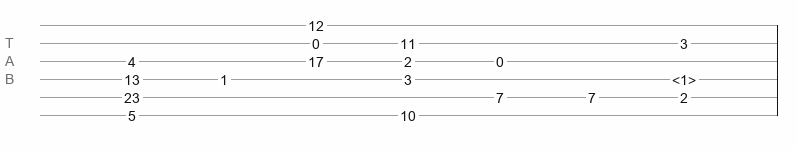0: (312, 36, 320, 46), (496, 54, 504, 64)
1: (220, 72, 228, 82)
10: (400, 108, 416, 118)
11: (400, 36, 416, 46)
12: (308, 18, 324, 28)
13: (124, 72, 140, 82)
17: (308, 54, 324, 64)
2: (404, 54, 412, 64), (680, 90, 688, 100)
23: (124, 90, 140, 100)
3: (404, 72, 412, 82), (680, 36, 688, 46)
4: (128, 54, 136, 64)
5: (128, 108, 136, 118)
7: (496, 90, 504, 100), (588, 90, 596, 100)
harmonic: (672, 72, 696, 82)
